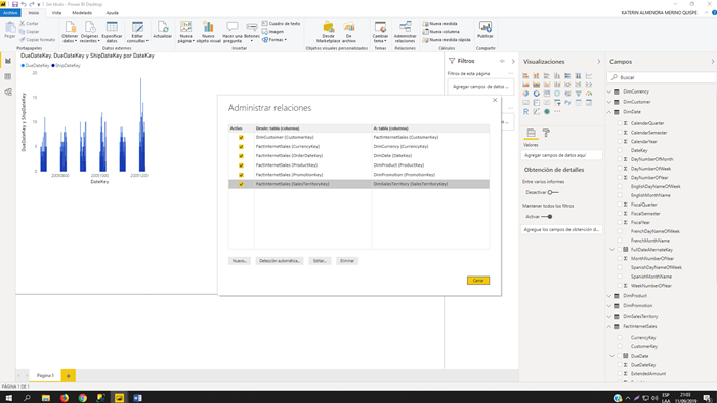

This screenshot's page, from the dashboard's own definition file:
{"tool":"powerbi","page":{"name":"Página 1","canvas":[1280,720],"ordinal":0},"visuals":[{"type":"clusteredColumnChart","fields":{"Y":["CountNonNull(FactInternetSales.DueDateKey)","CountNonNull(FactInternetSales.DueDateKey)","CountNonNull(FactInternetSales.ShipDateKey)"],"Category":["DimDate.DateKey"]},"box":[10.1,0,450.9,398.3],"z":0},{"type":"clusteredColumnChart","fields":{"Y":["CountNonNull(DimProductSubcategory.CategoryKey)","CountNonNull(DimProductCategory.CategoryKey)"]},"box":[461,0,483.4,360.3],"z":1000}]}

Visuals, with their boxes on the page's 1280x720 design canvas (x1, y1, x2, y2). These are canvas units, not pixel positions in the 717x403 screenshot, which may show the page scaled, cropped or inside an application window:
clusteredColumnChart - CountNonNull(FactInternetSales.DueDateKey) x CountNonNull(FactInternetSales.DueDateKey): {"x1": 10, "y1": 0, "x2": 461, "y2": 398}
clusteredColumnChart - CountNonNull(DimProductSubcategory.CategoryKey) x CountNonNull(DimProductCategory.CategoryKey): {"x1": 461, "y1": 0, "x2": 944, "y2": 360}
